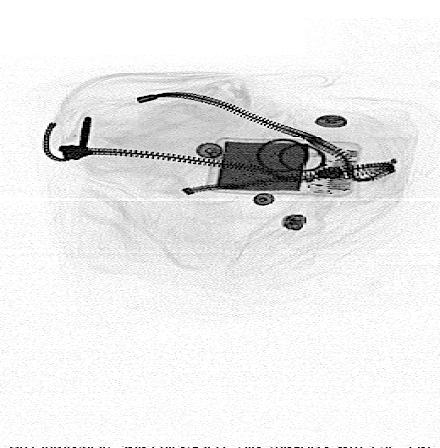Powerbank: (206, 136, 366, 199)
